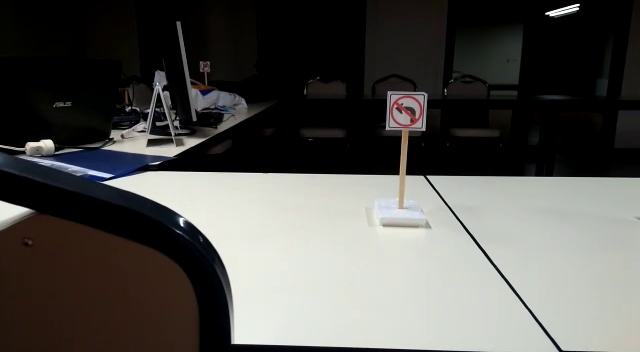sola_donulmez: (391, 93, 423, 129)
